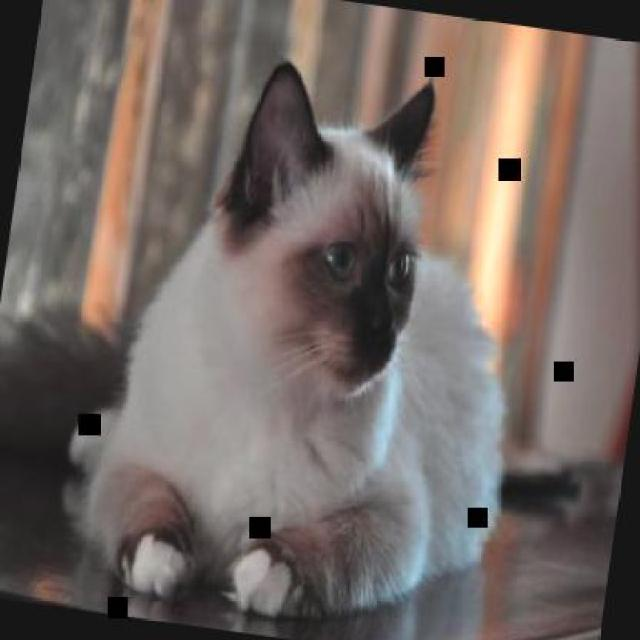cat: (44, 34, 556, 638)
